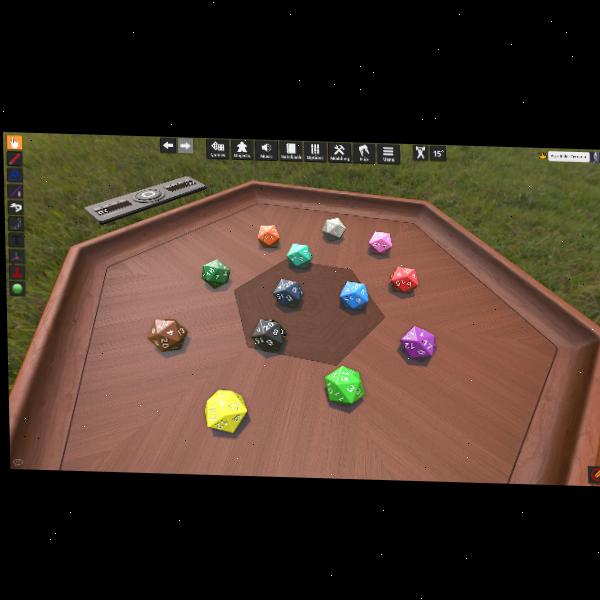d20: (205, 388, 248, 433), (324, 365, 362, 405), (148, 317, 189, 352), (251, 318, 288, 353), (400, 326, 435, 360), (274, 278, 305, 307), (201, 259, 229, 290), (340, 282, 367, 310), (390, 265, 416, 293), (286, 243, 311, 269), (322, 217, 344, 242), (258, 224, 280, 248), (369, 230, 391, 254)
